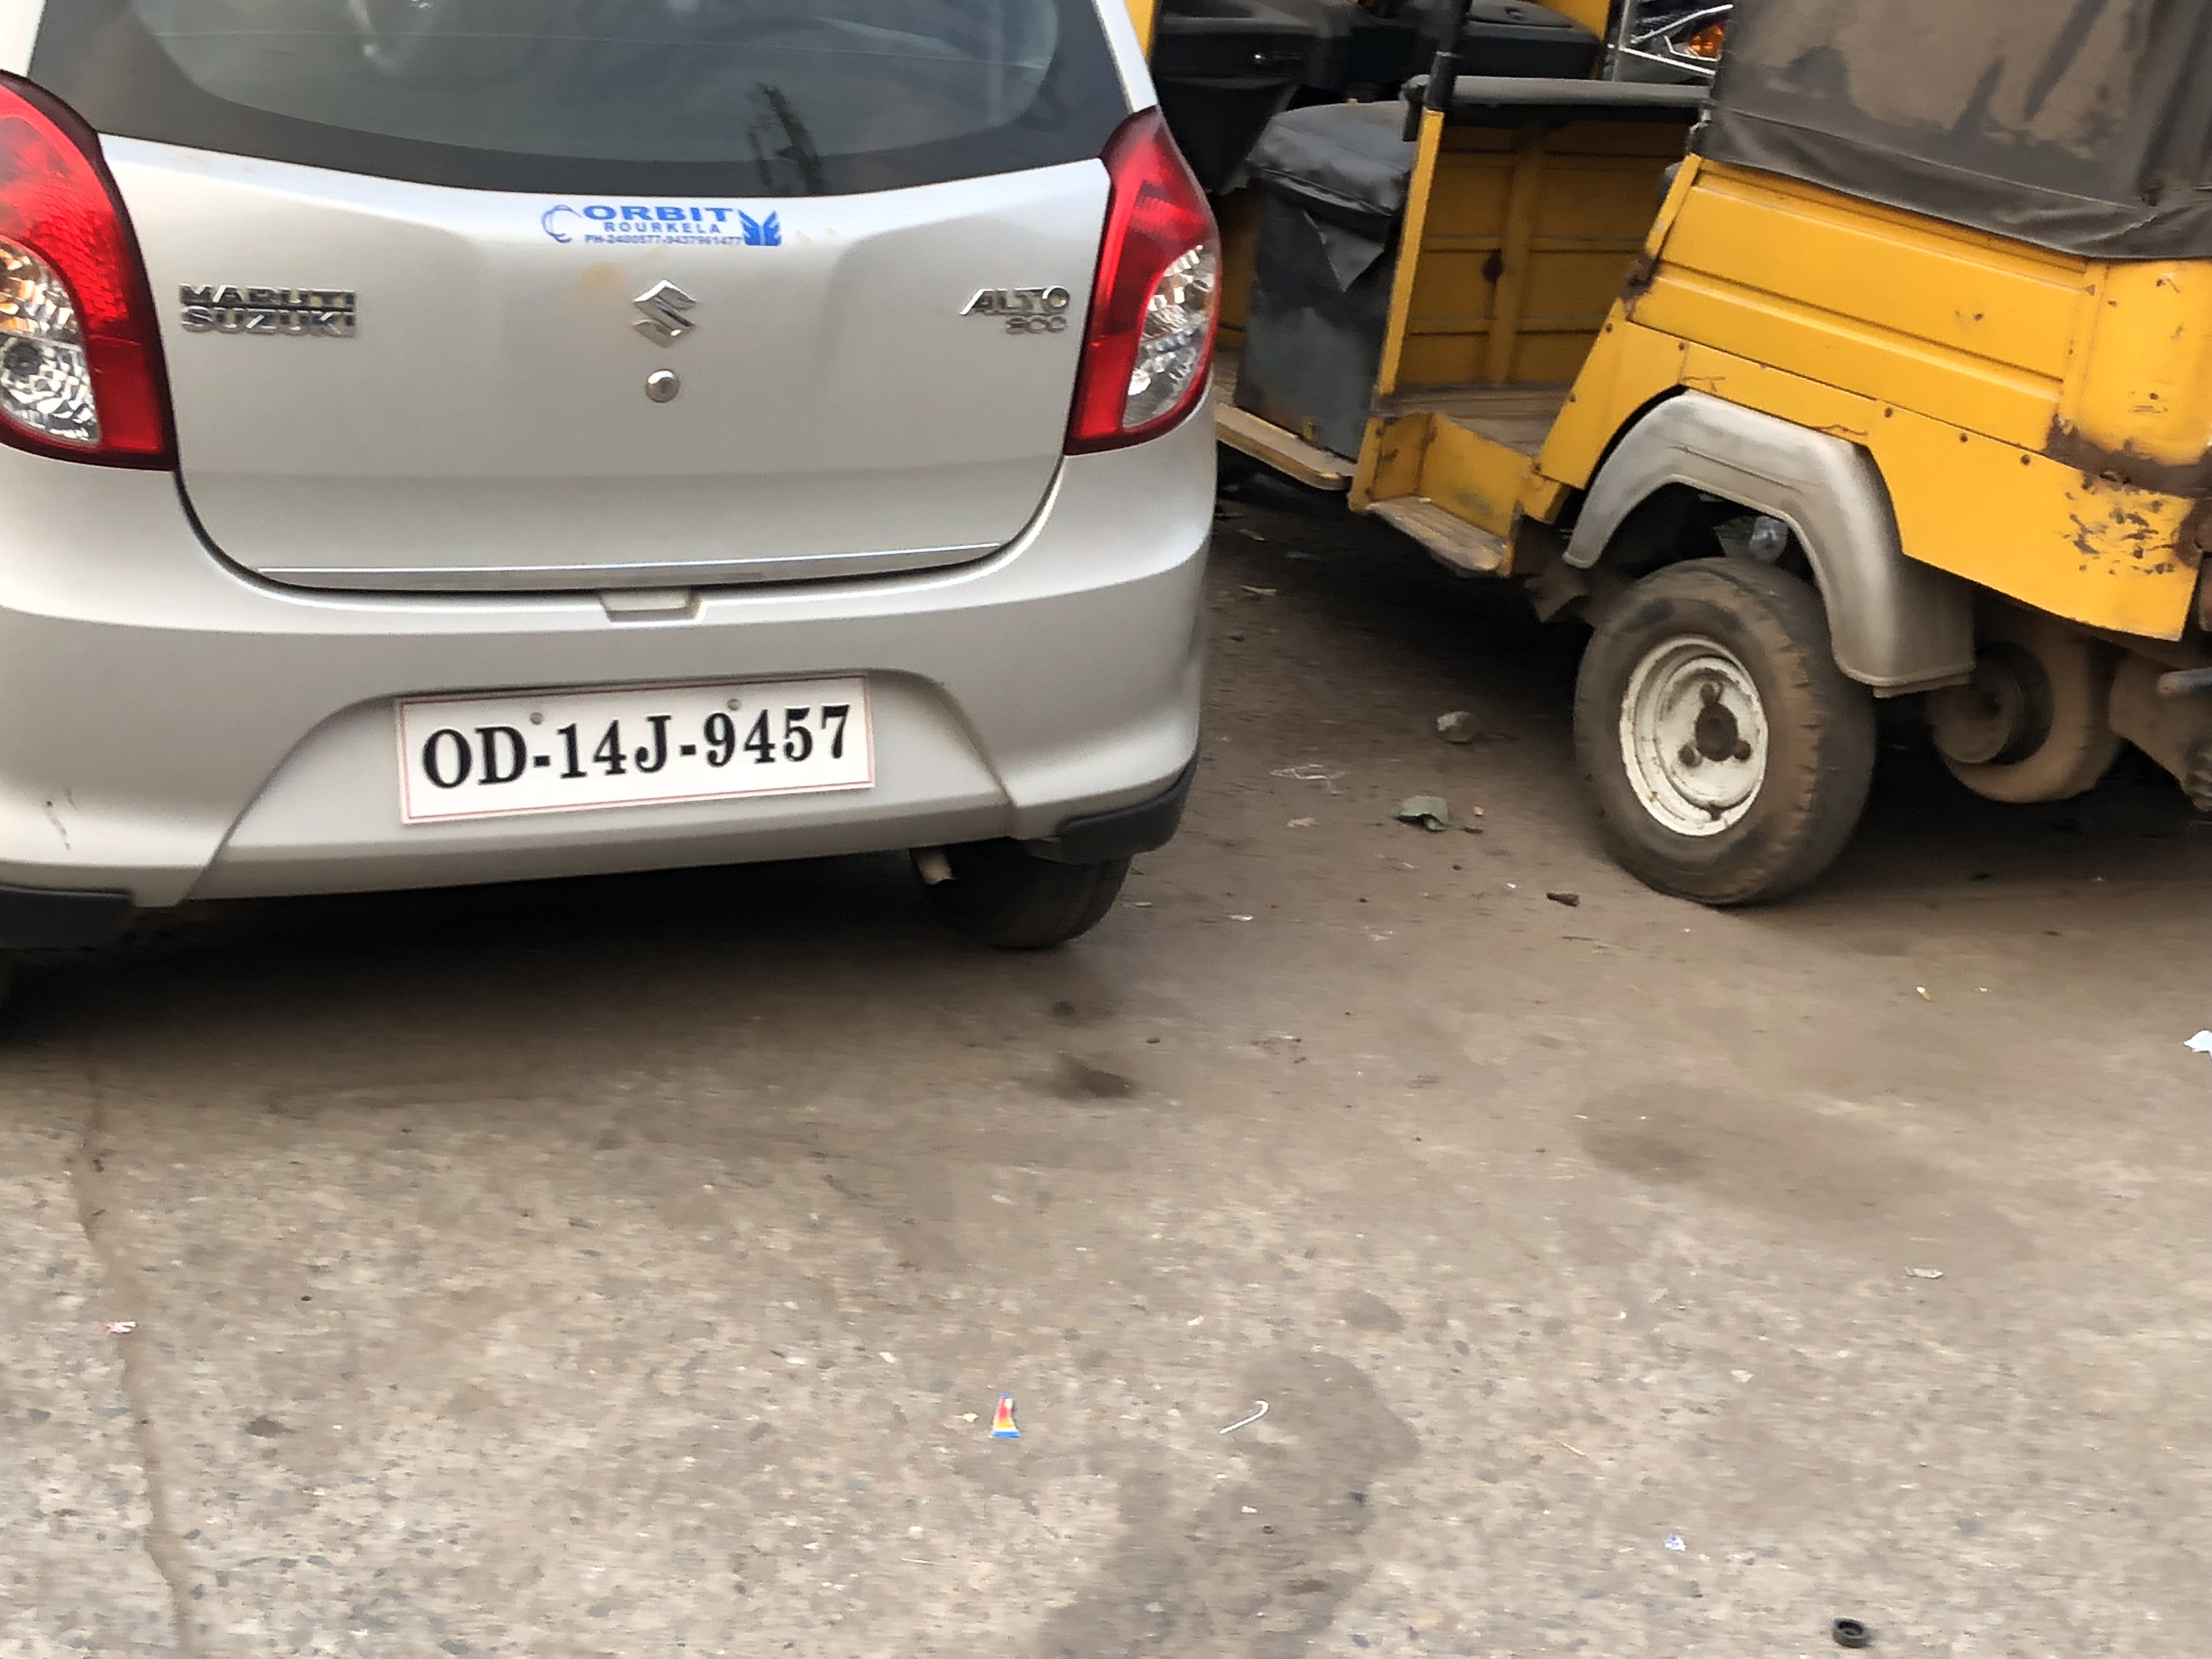licenseplate: (402, 675, 896, 815)
